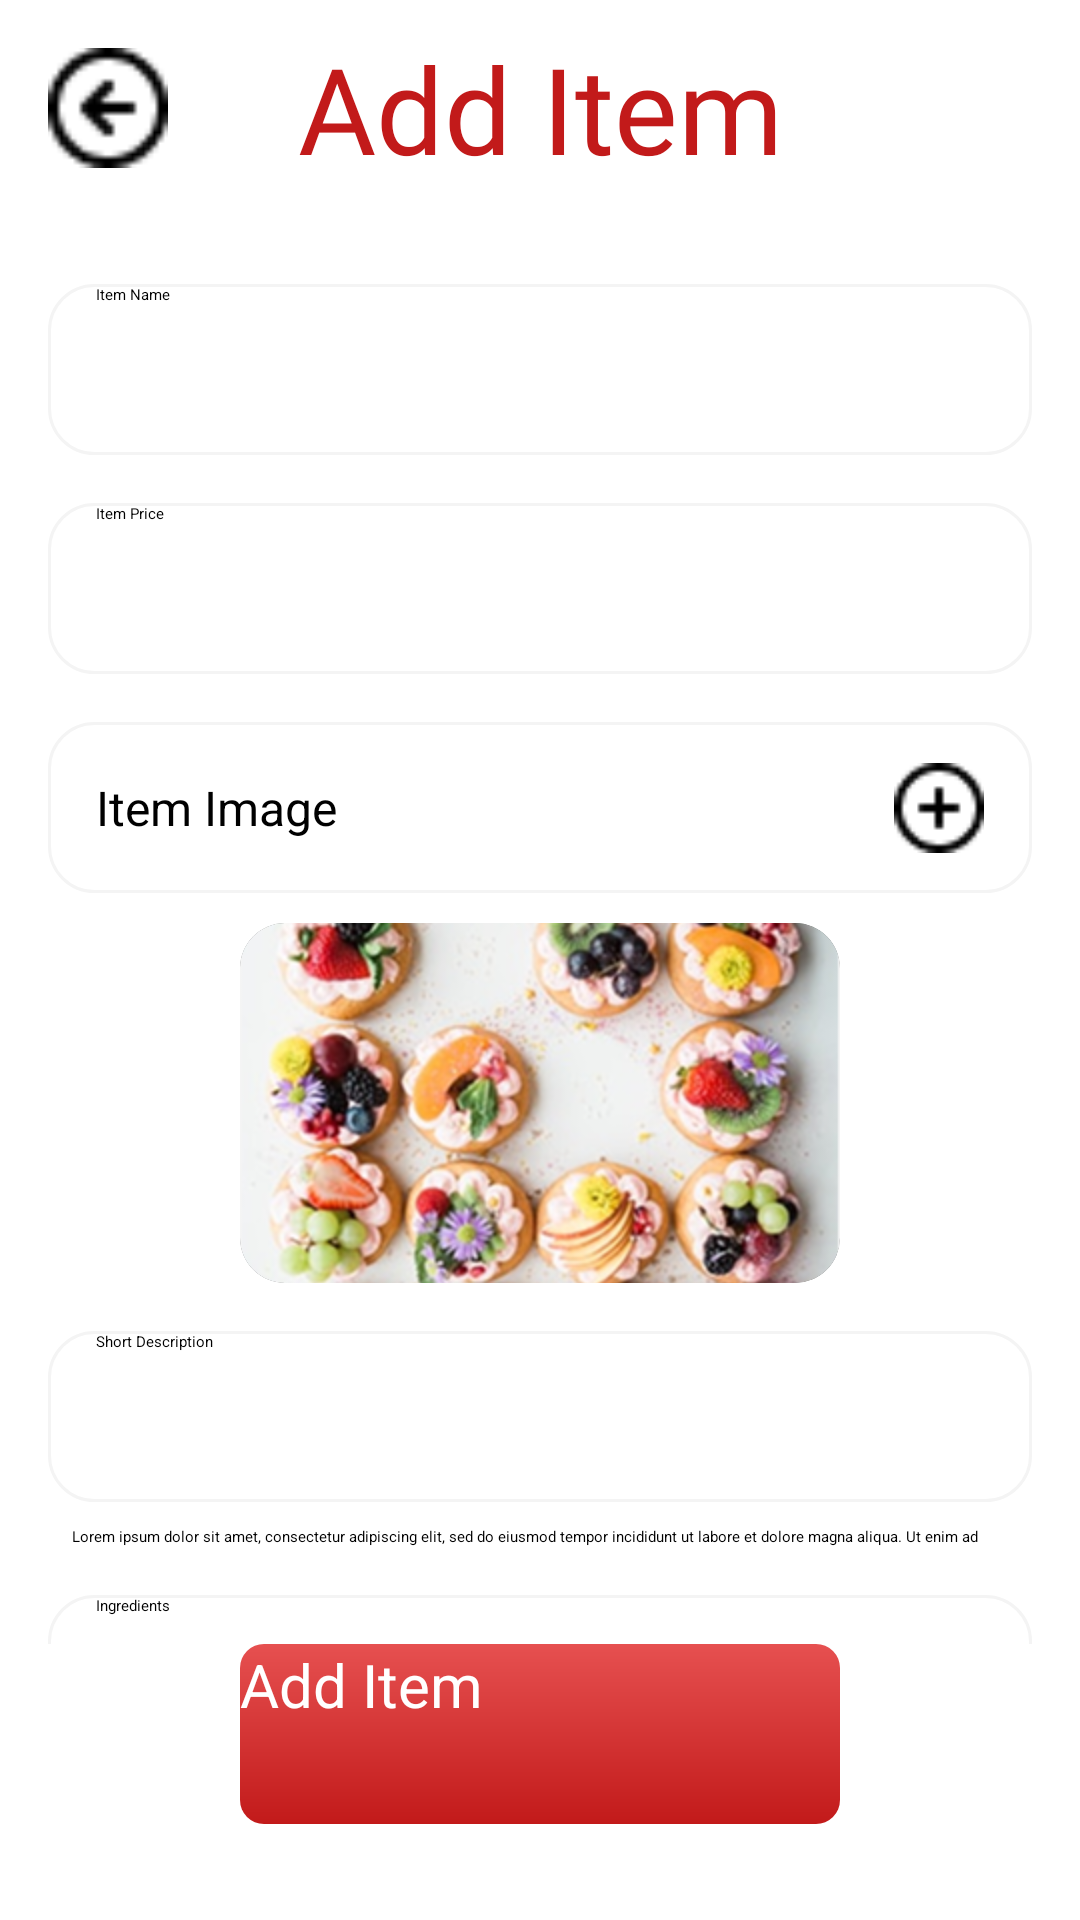

Screen size 1080 × 1920. Icon name, then its center in pixels as (x=x, y=y):
back: (x=108, y=108)
blackplus: (x=939, y=808)
